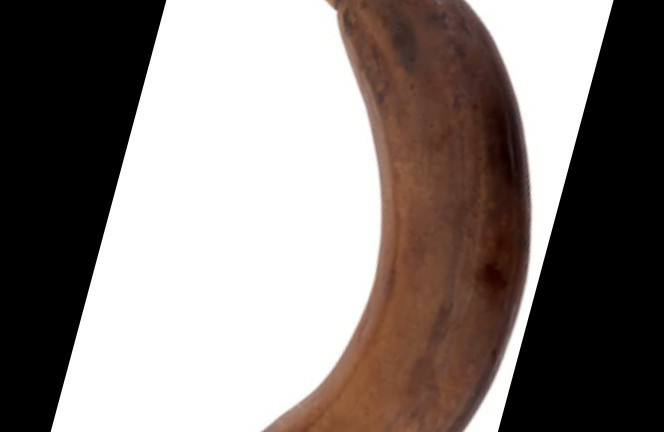rotten_banana: (255, 2, 535, 432)
